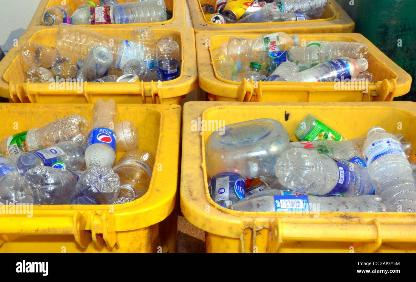Plastic Bottle: (276, 147, 374, 197), (362, 127, 414, 213), (227, 193, 387, 213), (265, 56, 368, 82), (84, 97, 118, 174), (221, 32, 302, 54), (10, 116, 80, 138), (295, 114, 346, 142)
